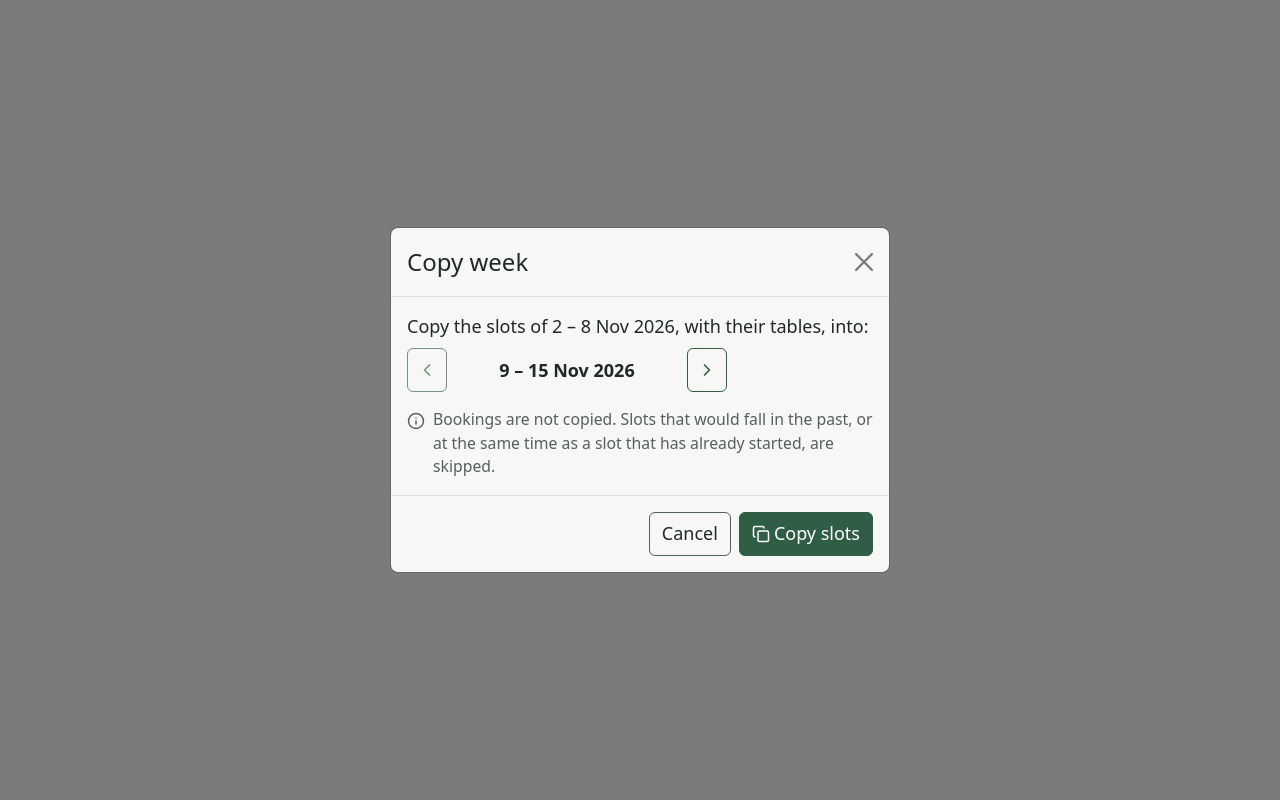
Test: CopyWeekDialog › other errors are shown in an alert with the focus; changing week removes them
The image size is (1280, 800).
Click the button "Copy slots" at coordinates (806, 534), box left=739, top=512, right=873, bottom=556
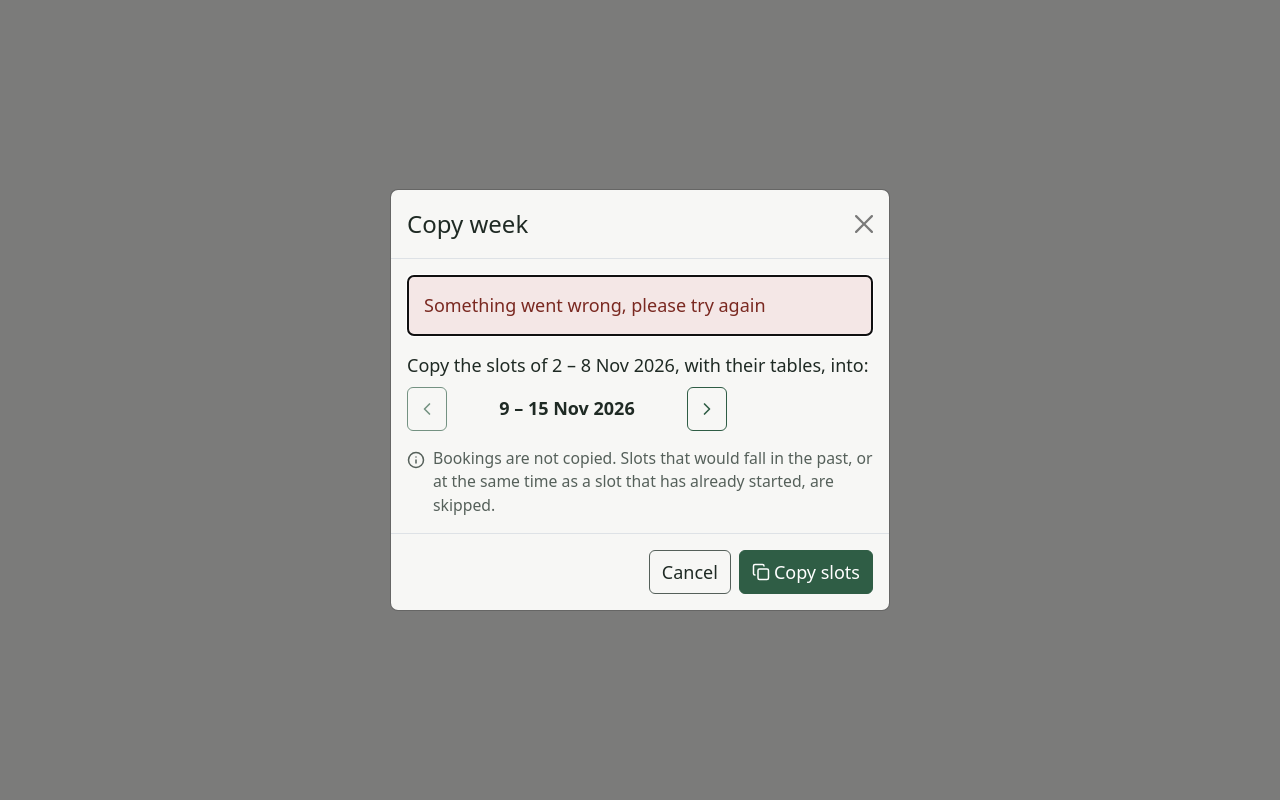
Check: the button "Copy slots" is enabled, box left=739, top=550, right=873, bottom=594
Check: the message reads "Something went wrong, please try again", box left=424, top=293, right=766, bottom=317
Click the button named "Next week" at coordinates (707, 409), box left=687, top=387, right=727, bottom=431
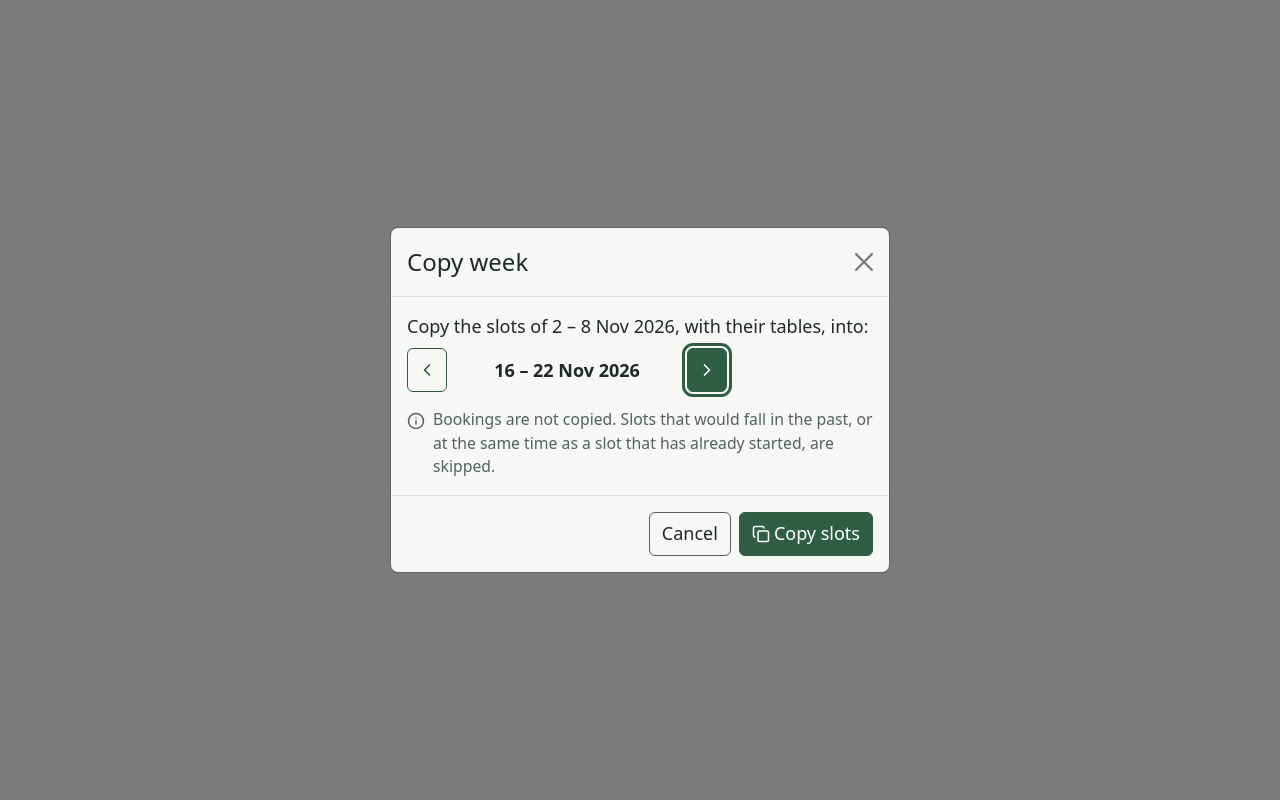
Check: the message "Something went wrong, please try again" is gone
